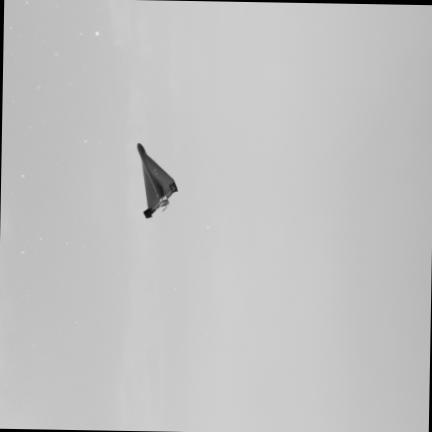Shahed: (137, 142, 177, 216)
